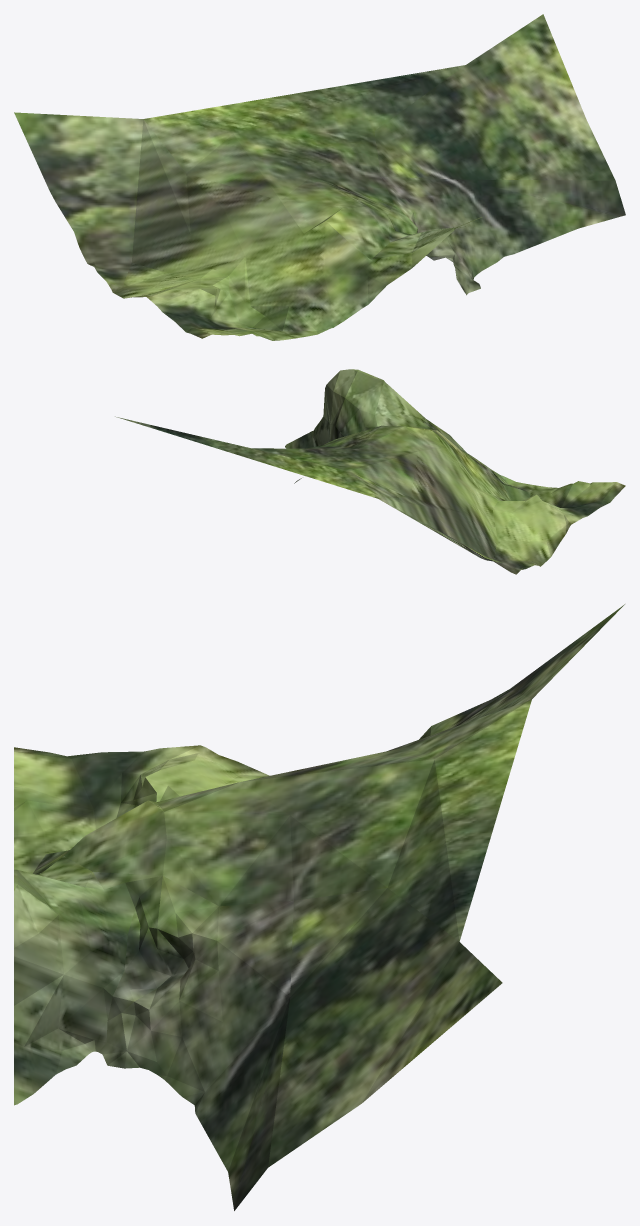
3 renders of one model, top to bottom at view 1: azimuth 30°, elevation 25°; view 2: azimuth 150°, elevation 25°; view 3: azimuth 270°, elevation 25°, orthographic. The views are drawn at different scales.
Bounding box in the file's own units: 26.11 × 7.14 × 17.33.
Materials: 2 (2 with a texture image).
